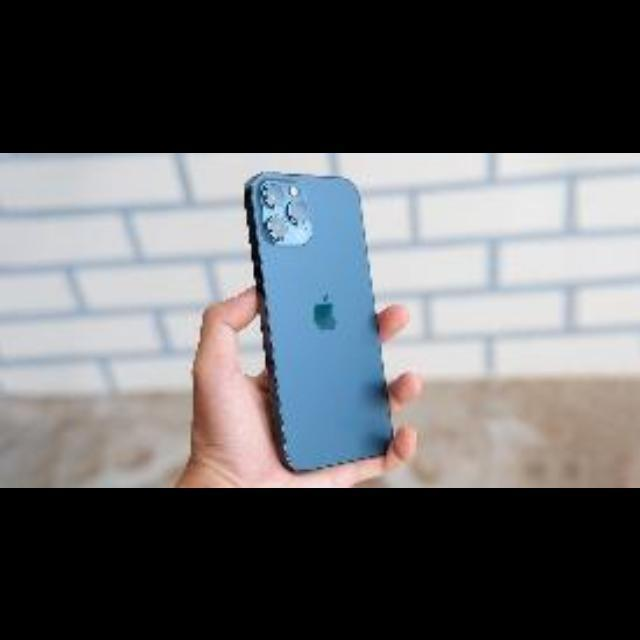PhoneUse: (240, 170, 394, 460)
